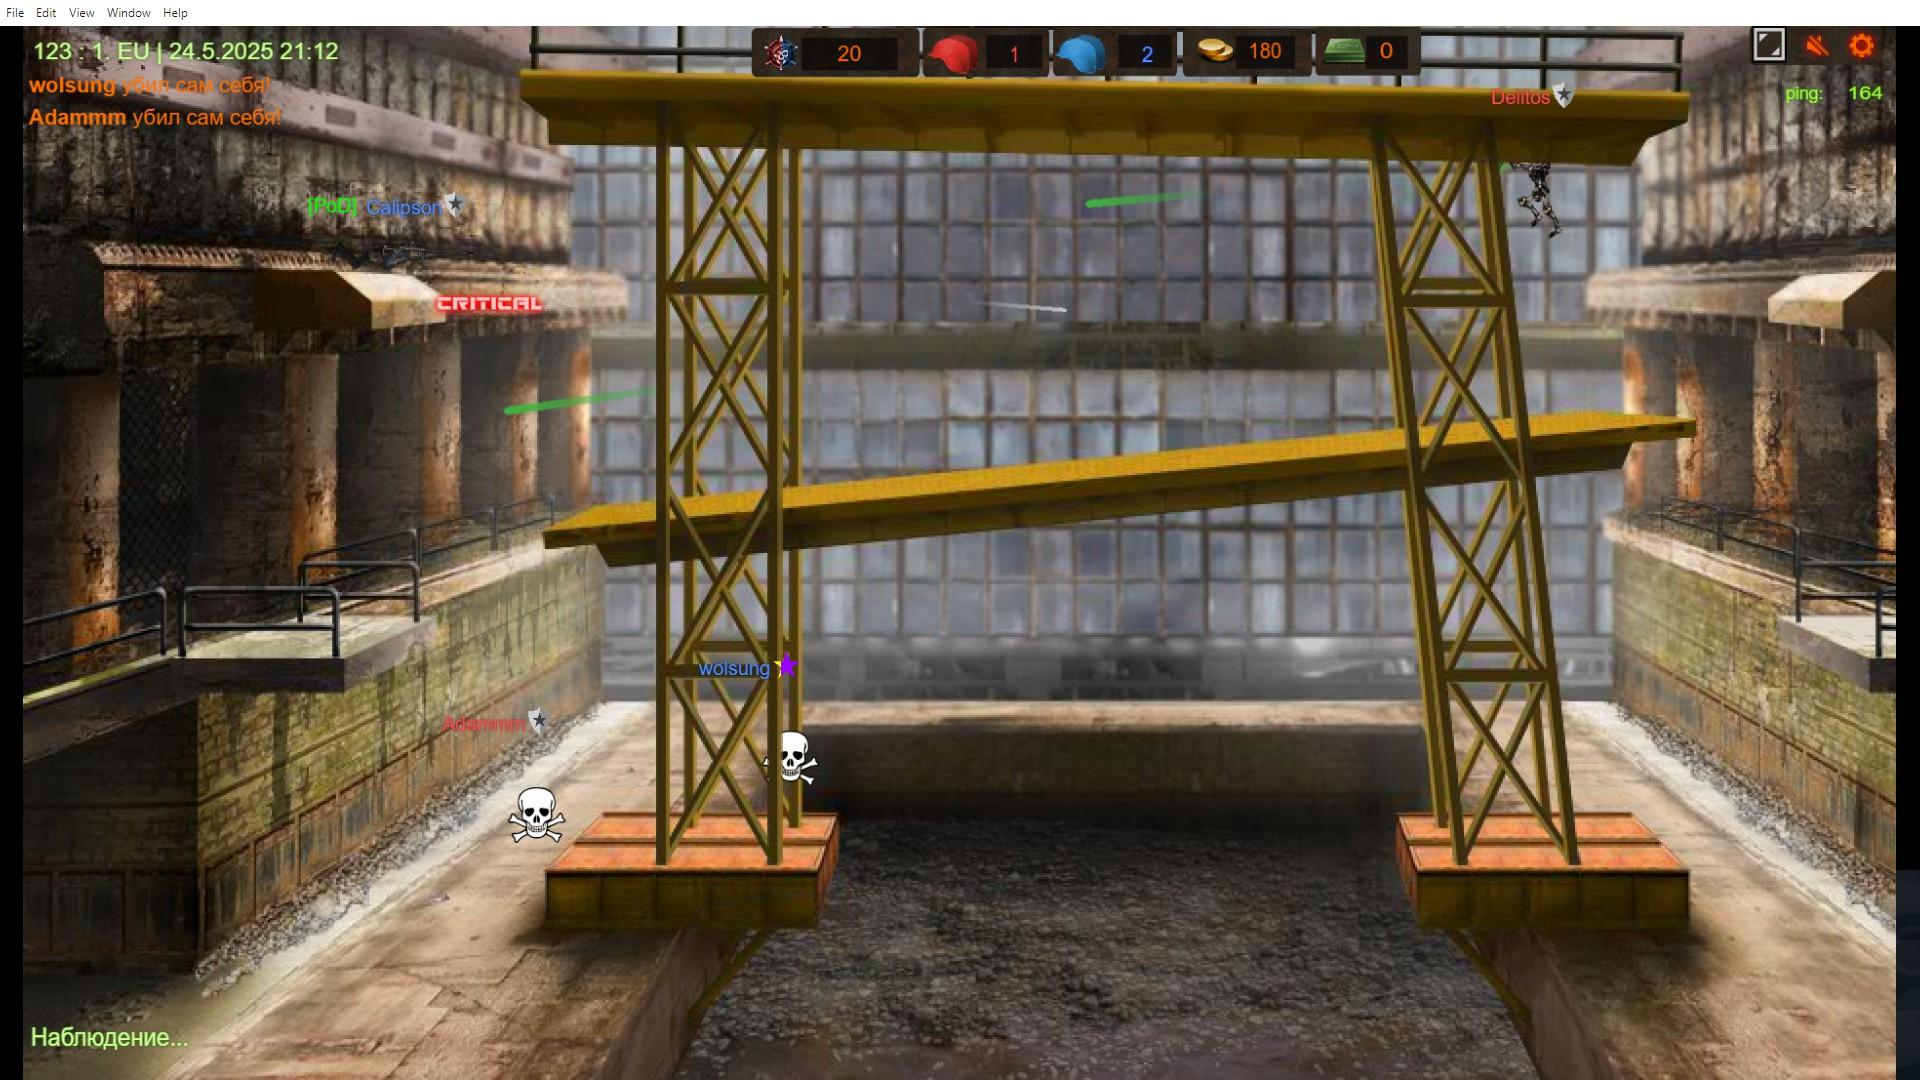enemy: (1520, 158, 1556, 233), (332, 243, 429, 268)
